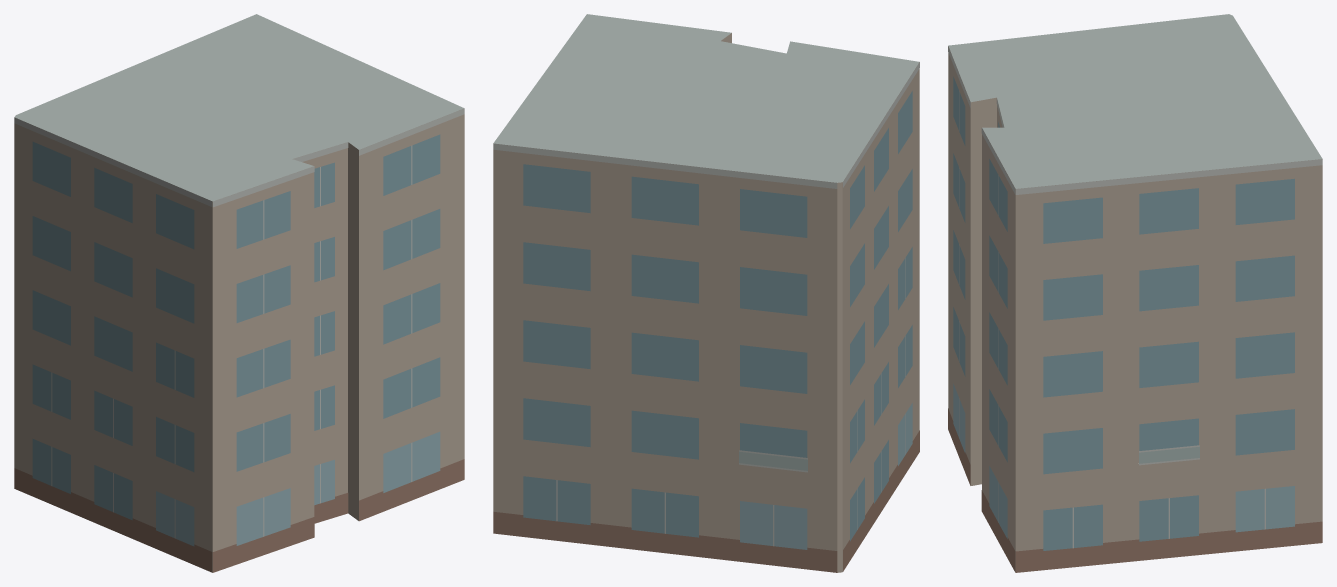
Rendered from survey-upis-32999781.glb.
The picture shows the model from 3 angles, left to right: view 1: azimuth 30°, elevation 25°; view 2: azimuth 150°, elevation 25°; view 3: azimuth 270°, elevation 25°; orthographic projection. The views are drawn at different scales.
Visible parts, largest first — view 1: survey-upis-32999781.tmp; view 2: survey-upis-32999781.tmp; view 3: survey-upis-32999781.tmp.
Part boxes in pixels (x1,y1,x2,y2): survey-upis-32999781.tmp: [14, 14, 464, 572]; survey-upis-32999781.tmp: [493, 14, 919, 572]; survey-upis-32999781.tmp: [948, 14, 1322, 572].
Size of the model in its own units: 14.87 by 15.2 by 13.45.
